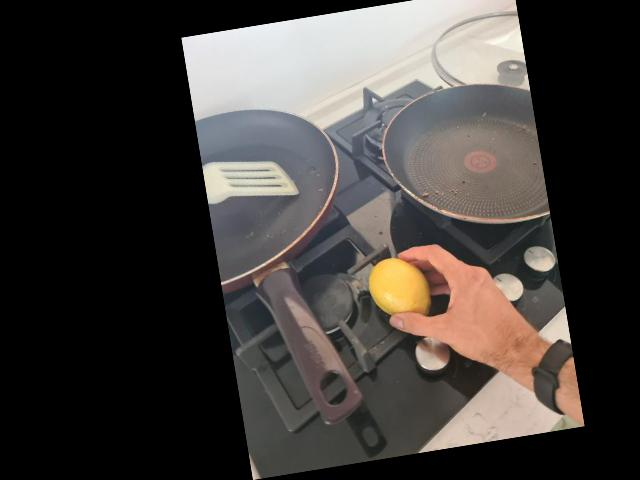lemon: (365, 252, 429, 325)
